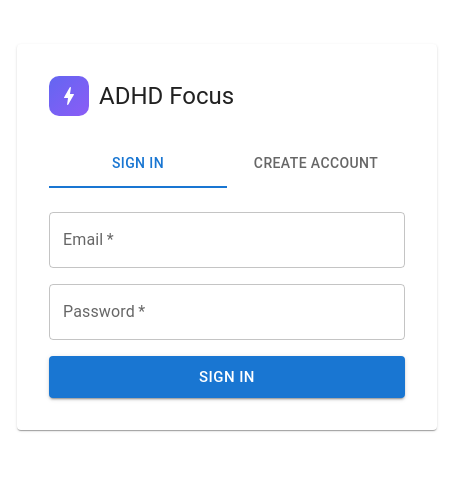
Test: AuthPage › shows the server error for wrong credentials
In the field labelled "Email *": (227, 240) top-left (49, 212), bottom-right (405, 268), type "ada@example.com"
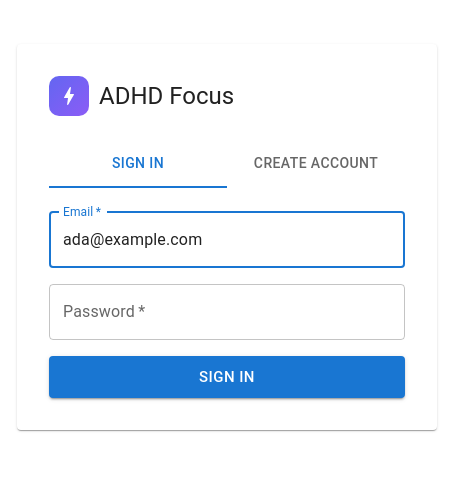
In the password field labelled "Password *": (227, 312) top-left (49, 284), bottom-right (405, 340), type "wrong-password"
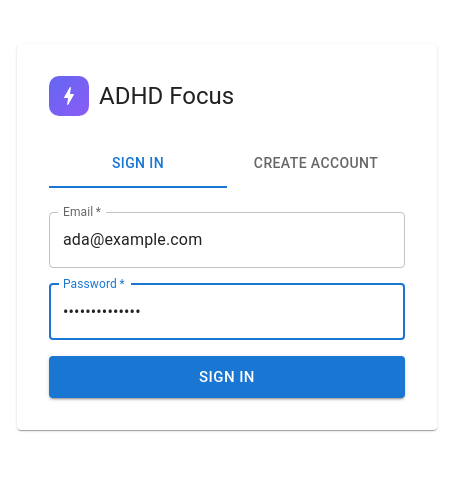
Click the button "Sign in": (227, 377) top-left (49, 356), bottom-right (405, 398)
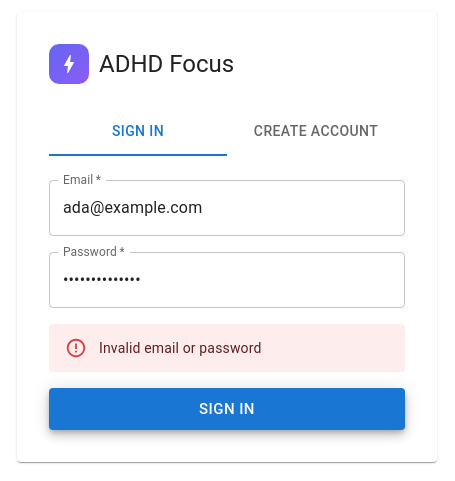
Result: the text "Invalid email or password" is shown at top-left (99, 340), bottom-right (262, 356)
